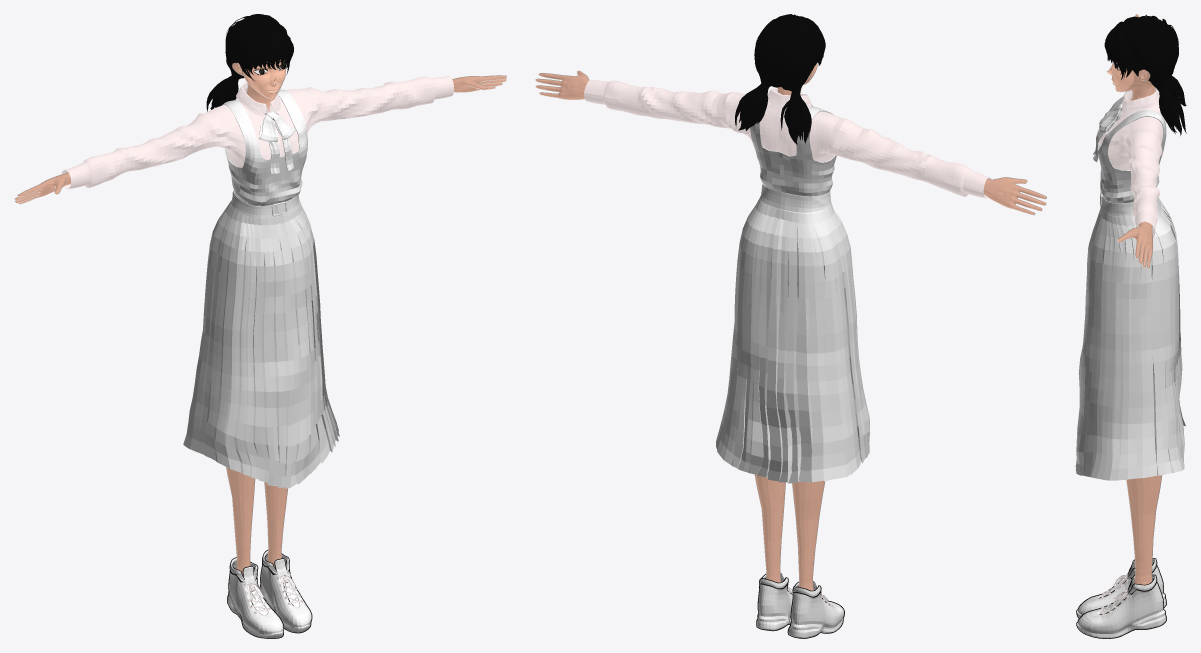
Rendered from autosave2_10632_autosave.glb.
The picture shows the model from 3 angles, left to right: view 1: azimuth 30°, elevation 25°; view 2: azimuth 150°, elevation 25°; view 3: azimuth 270°, elevation 25°; orthographic projection. The views are drawn at different scales.
Parts seen in each view (by area): view 1: SHIRT.002, button2.003, Circle, Cube.003, Cube.008, Cylinder.002, Plane.002; view 2: SHIRT.002, button2.003, Circle, Cube.008, Cube.003; view 3: SHIRT.002, Cube.008, button2.003, Circle, Cube.003, Cylinder.002, Plane.002.
Boxes of the visible parts, box(x1,y1,x2,y2) form: SHIRT.002: box(183, 89, 339, 488); button2.003: box(61, 76, 454, 189); Circle: box(14, 59, 506, 574); Cube.003: box(227, 550, 312, 638); Cube.008: box(206, 14, 293, 111); Cylinder.002: box(259, 109, 295, 173); Plane.002: box(242, 573, 302, 614); SHIRT.002: box(716, 106, 869, 483); button2.003: box(584, 79, 991, 198); Circle: box(535, 63, 1046, 590); Cube.008: box(735, 14, 825, 144); Cube.003: box(756, 573, 844, 638); SHIRT.002: box(1075, 95, 1185, 480); Cube.008: box(1104, 14, 1186, 135); button2.003: box(1099, 87, 1166, 237); Circle: box(1107, 14, 1162, 584); Cube.003: box(1076, 558, 1166, 638); Cylinder.002: box(1093, 100, 1124, 162); Plane.002: box(1101, 573, 1128, 616).
Size of the model in its own units: 7.91 by 9.14 by 1.52.
Materials: 15 (6 with a texture image).
